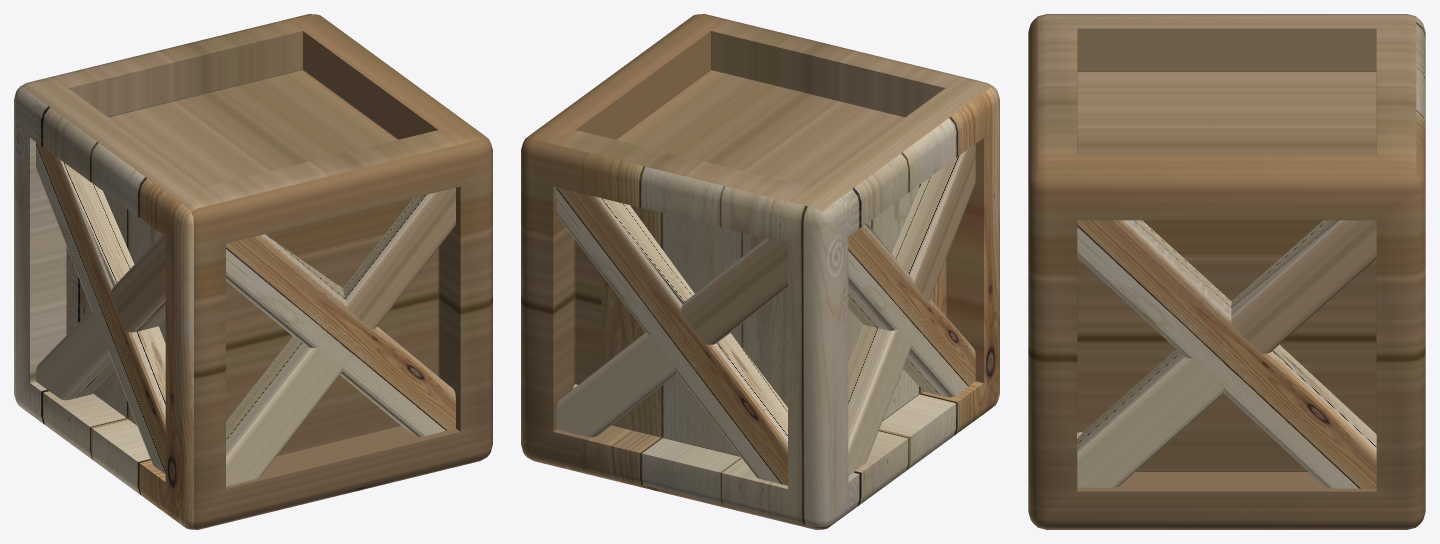
File: free_low_poly_crate.glb
The picture shows the model from 3 angles, left to right: view 1: azimuth 30°, elevation 25°; view 2: azimuth 150°, elevation 25°; view 3: azimuth 270°, elevation 25°; orthographic projection. The views are drawn at different scales.
Parts seen in each view (by area): view 1: MainBox, Plank; view 2: MainBox, Plank; view 3: MainBox, Plank.
Part boxes in pixels (x1,y1,x2,y2): MainBox: (14,14,492,529); Plank: (36,142,455,486); MainBox: (521,14,999,529); Plank: (556,144,975,485); MainBox: (1028,14,1425,529); Plank: (1077,220,1376,488).
Bounding box in the file's own units: 2 × 2 × 2.
Materials: 4 (3 with a texture image).
